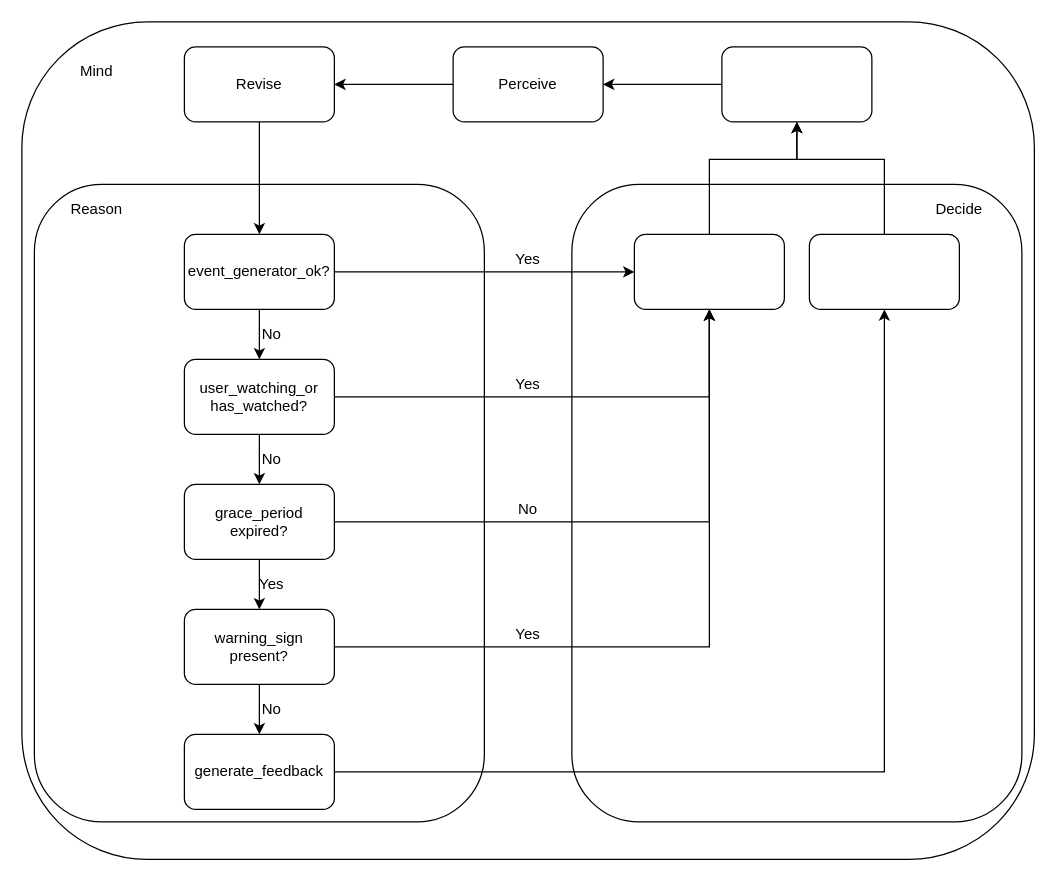
The diagram is 1056 pixels wide and 881 high, and some of its shapes have lost their labels. The shapes that lost their labels are listed below. From the top down, each one's centre as x and y in pixels, then its label:
At (x=796, y=84): "Execute".
At (x=708, y=271): "Idle".
At (x=883, y=271): "Feedback".
